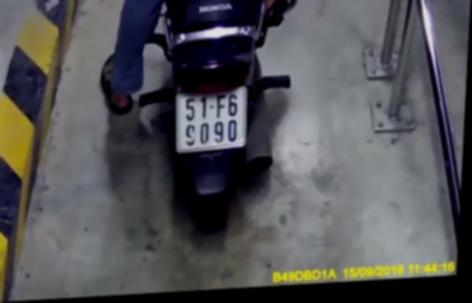License_Plate: (167, 84, 252, 158)
